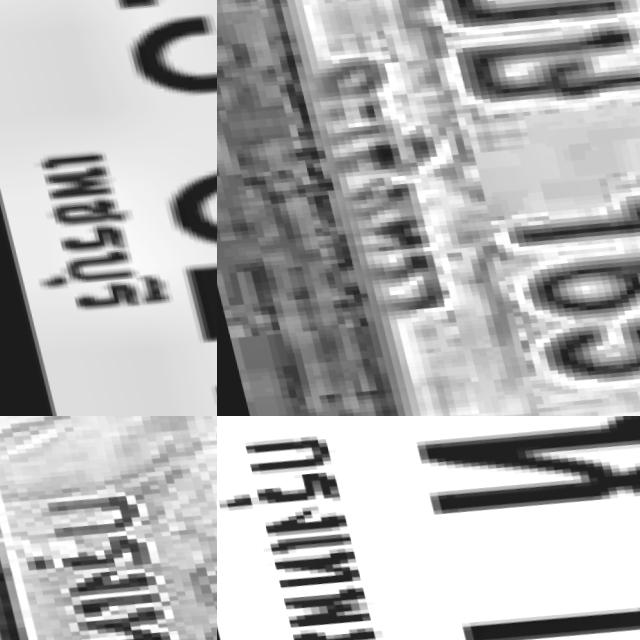license-plate: (217, 0, 640, 416), (217, 416, 640, 640), (0, 0, 217, 416), (0, 416, 217, 640)
